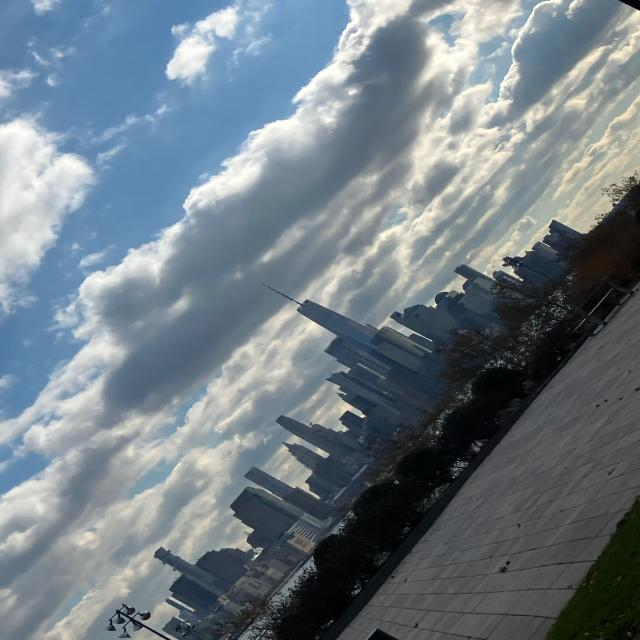WTC: (255, 280, 385, 347)
